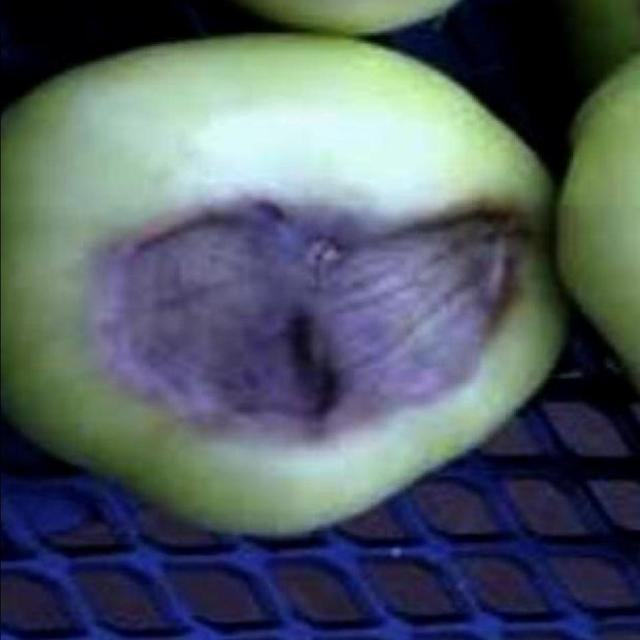Blossom End Rot Fruit: (58, 131, 354, 303)
